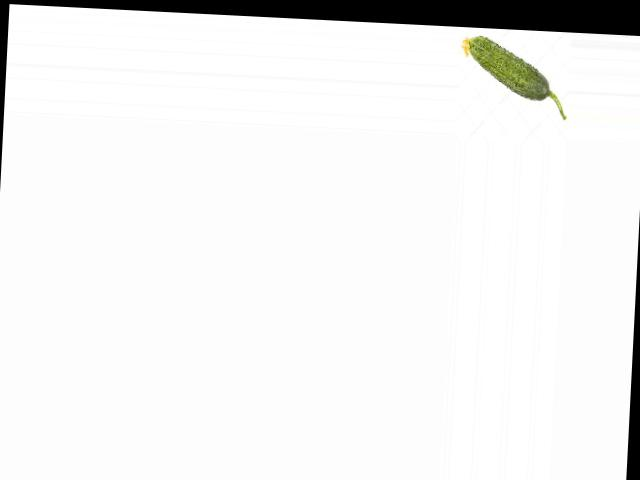cucumber: (456, 34, 569, 119)
